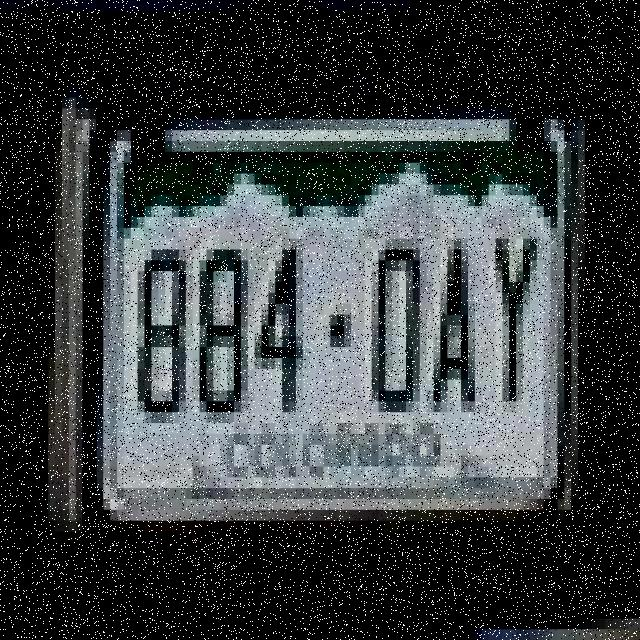licenseplate: (60, 52, 584, 551)
